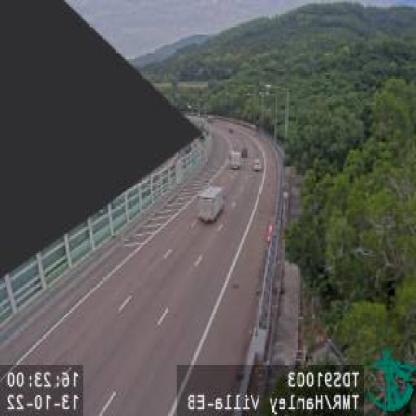Car: (228, 150, 244, 170), (250, 158, 262, 173)
Truck: (198, 184, 226, 222)
